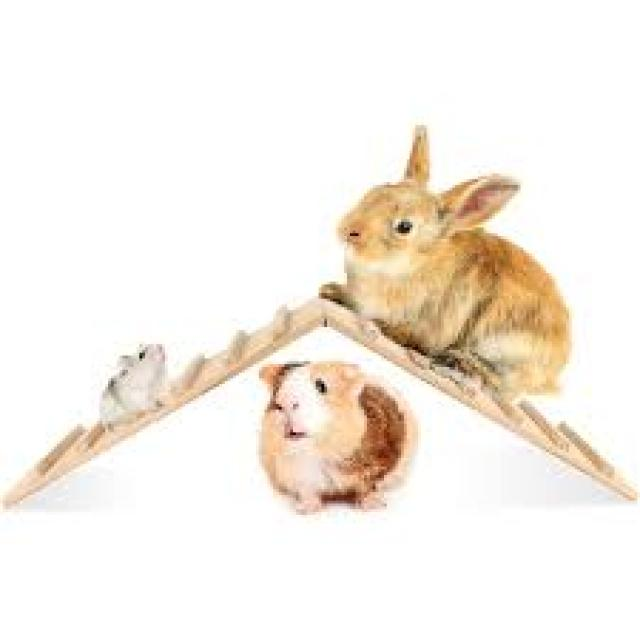rat: (316, 122, 572, 410), (256, 358, 412, 512)
